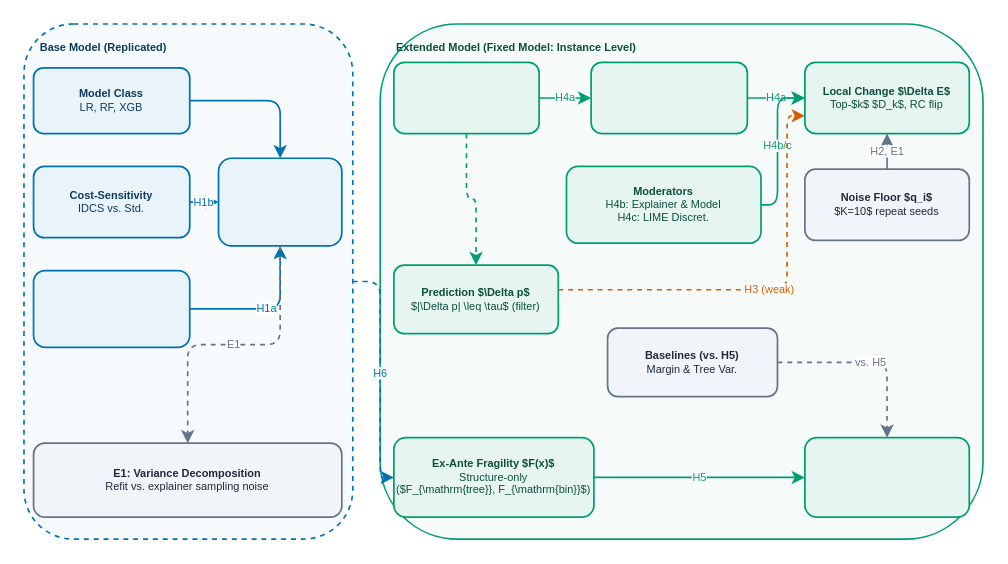
This 1008x564 diagram has some shape labels left out. The shapes that lost their labels are listed below. From the top down, each one's centre as x and y in pixels, then its label:
At pixel 465 97: "Perturbation Gaussian $s\cdot\mathrm{SD}_j$".
At pixel 669 97: "Crossings $C$ Split $C_{\mathrm{tree}}$, Bin $C_{\mathrm{bin}}$".
At pixel 279 201: "Retraining Instability CoV & SRA ($d=10$)".
At pixel 111 308: "Class Imbalance Default rate $\pi$ (1% to 30%)".
At pixel 886 476: "Instability $Y_i$ $\mathbf{1}[\bar{U}_i \geq 0.2]$".
